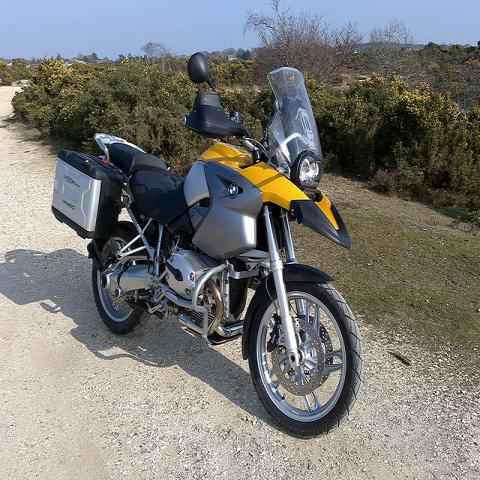motorcycle: (52, 51, 362, 437)
